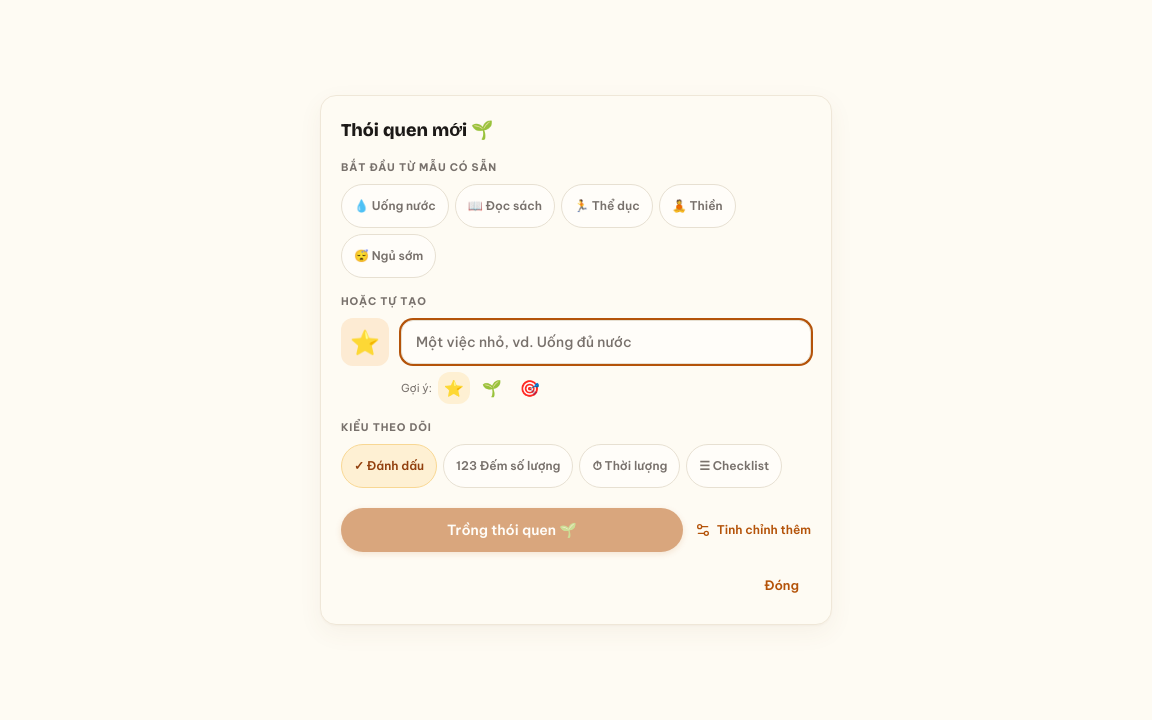
Scenario: HabitEditorSheet — quick create › refuses to submit without a name
Expected: the button "Trồng thói quen 🌱" is disabled, [341,508,683,552]
In the field named "Tên thói quen": coordinates (606, 342) [401,320,811,364], type "Thiền"
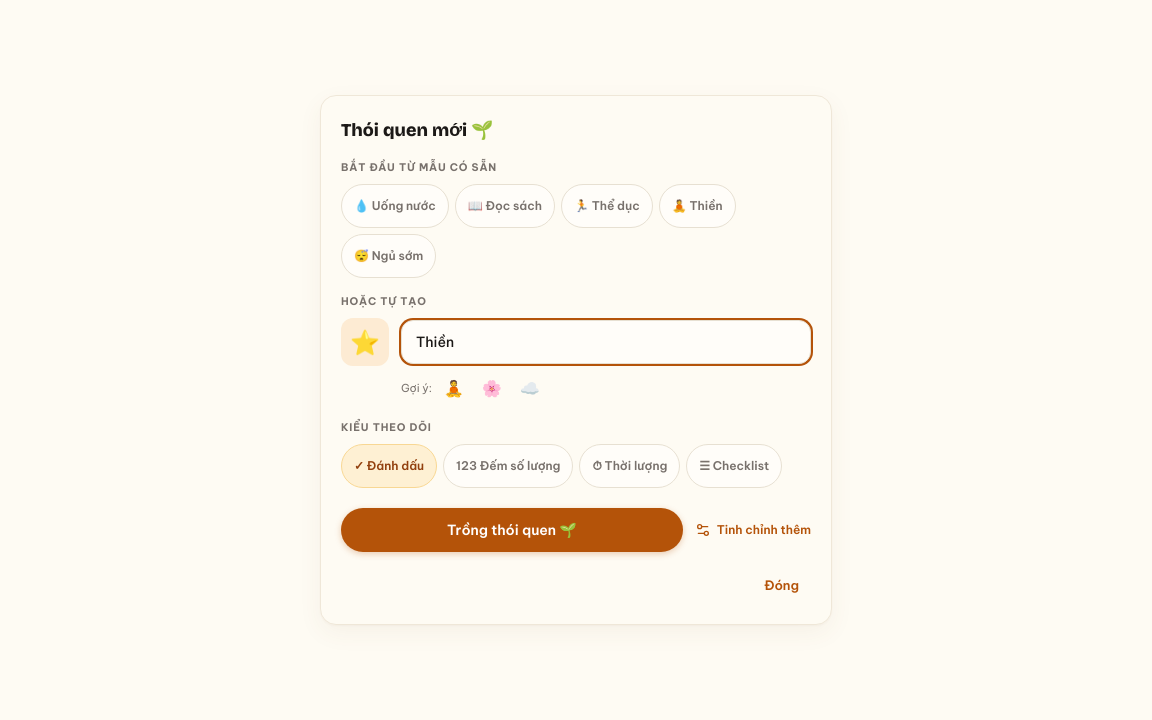
Expected: the button "Trồng thói quen 🌱" is enabled, [341,508,683,552]
